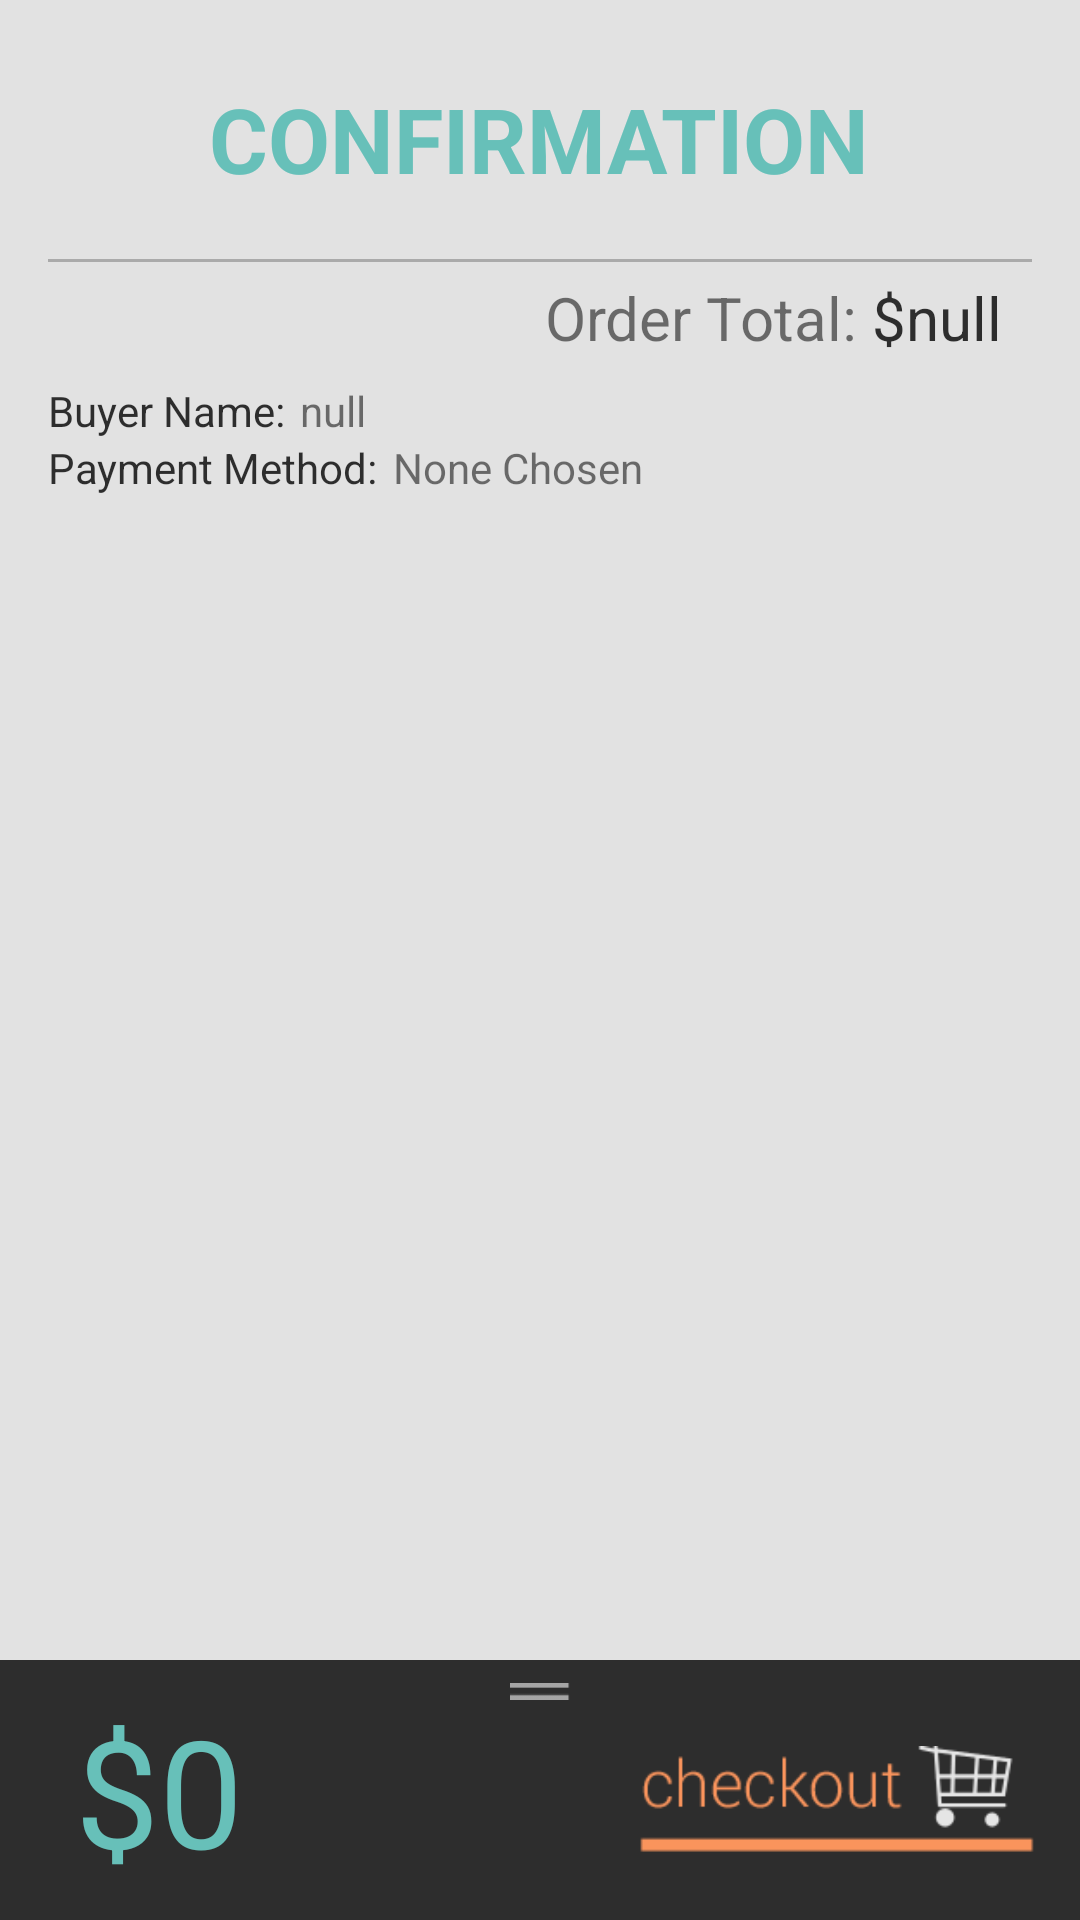

Named icons in this screenshot (1080×1920) and their bounding boxes, bbox=(x1, y1, x2, y2):
slidebar: bbox=(510, 1683, 569, 1700)
